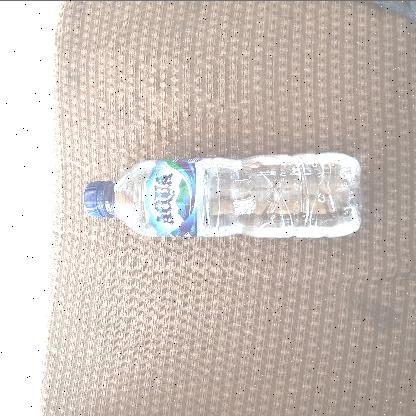Plastic Bottle: (80, 148, 366, 240)
